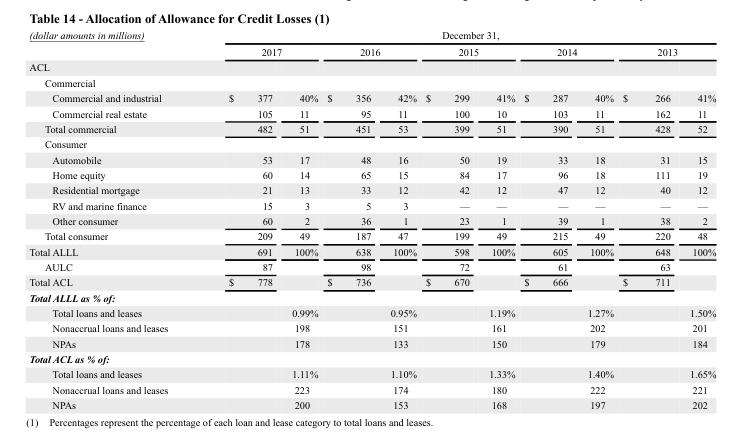table: (28, 29, 715, 410)
table column: (28, 29, 197, 410), (197, 29, 281, 410), (617, 29, 679, 410), (322, 29, 380, 410), (420, 29, 478, 410), (519, 29, 577, 410), (281, 29, 322, 410), (478, 29, 519, 410), (380, 29, 420, 410), (577, 29, 617, 410), (679, 29, 715, 410)
table column header: (28, 29, 715, 59)
table projected row header: (28, 74, 715, 90), (28, 350, 715, 366), (28, 59, 715, 74), (28, 136, 715, 151), (28, 289, 715, 304)
table row: (28, 42, 715, 59), (28, 74, 715, 90), (28, 120, 715, 136), (28, 166, 715, 182), (28, 212, 715, 228), (28, 258, 715, 274), (28, 304, 715, 320), (28, 350, 715, 366), (28, 381, 715, 397), (28, 59, 715, 74), (28, 90, 715, 105), (28, 105, 715, 120), (28, 136, 715, 151), (28, 151, 715, 166), (28, 182, 715, 197), (28, 197, 715, 212), (28, 228, 715, 243), (28, 243, 715, 258), (28, 274, 715, 289), (28, 289, 715, 304), (28, 320, 715, 335), (28, 335, 715, 350), (28, 366, 715, 381), (28, 29, 715, 42), (28, 397, 715, 410)
table spanning cell: (197, 29, 715, 42), (28, 29, 197, 59), (197, 42, 322, 59), (420, 42, 519, 59), (322, 42, 420, 59), (519, 42, 617, 59), (617, 42, 715, 59)
